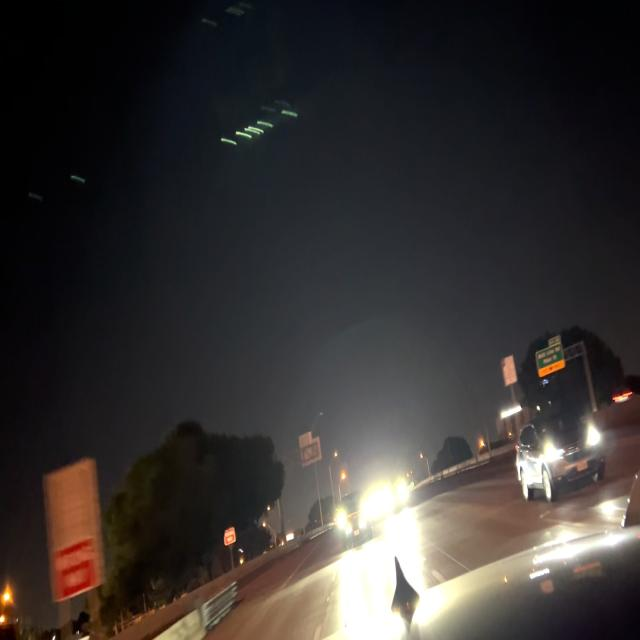back-of-sign: (299, 433, 321, 469)
